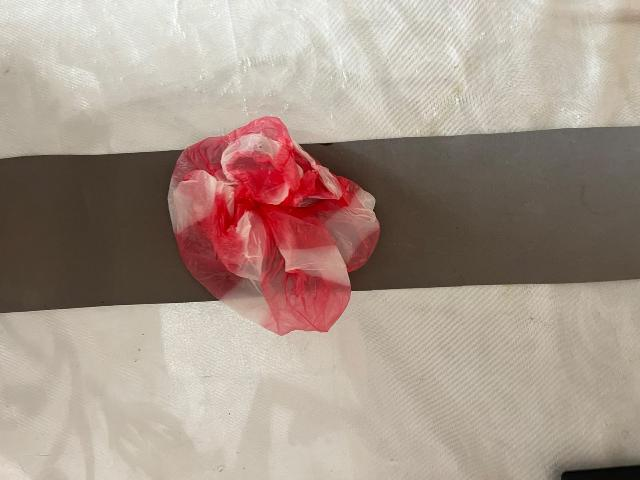LDPE: (150, 103, 440, 377)
